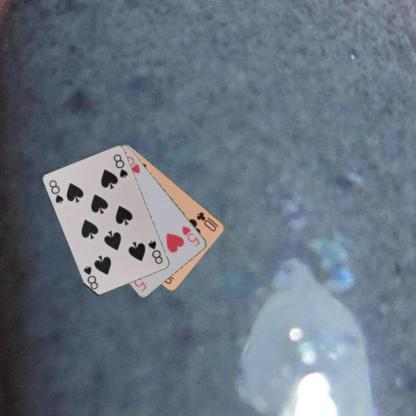10c: (194, 209, 220, 233)
5h: (180, 223, 202, 248)
8s: (46, 178, 65, 204), (146, 238, 164, 265)
